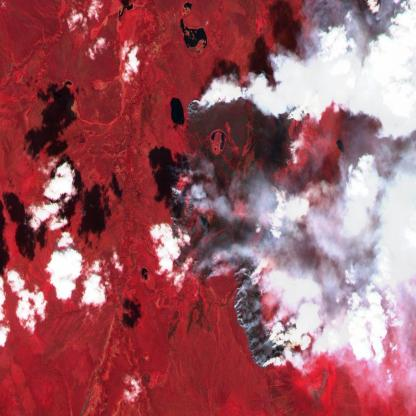fire: (164, 66, 312, 376)
